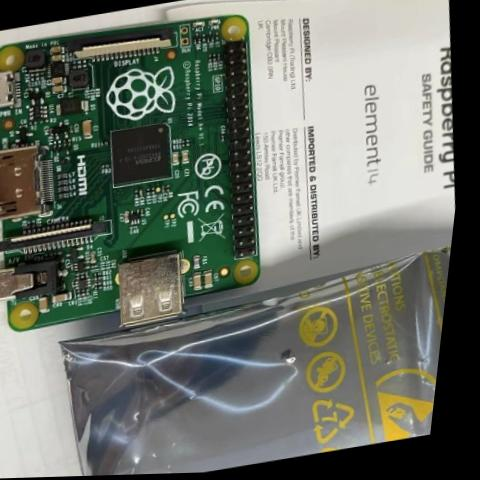Raspberry-Pi-1-Model-A-: (0, 0, 302, 368)
